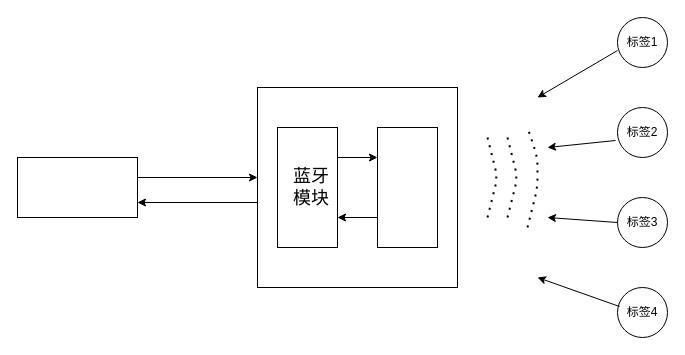
This 685x355 diagram has some shape labels left out. The shapes that lost their labels are listed below. From the top down, each one's centre as x and y in pixels, then its label:
At point (77, 187): "后端系统".
At point (407, 187): "射频模块".
